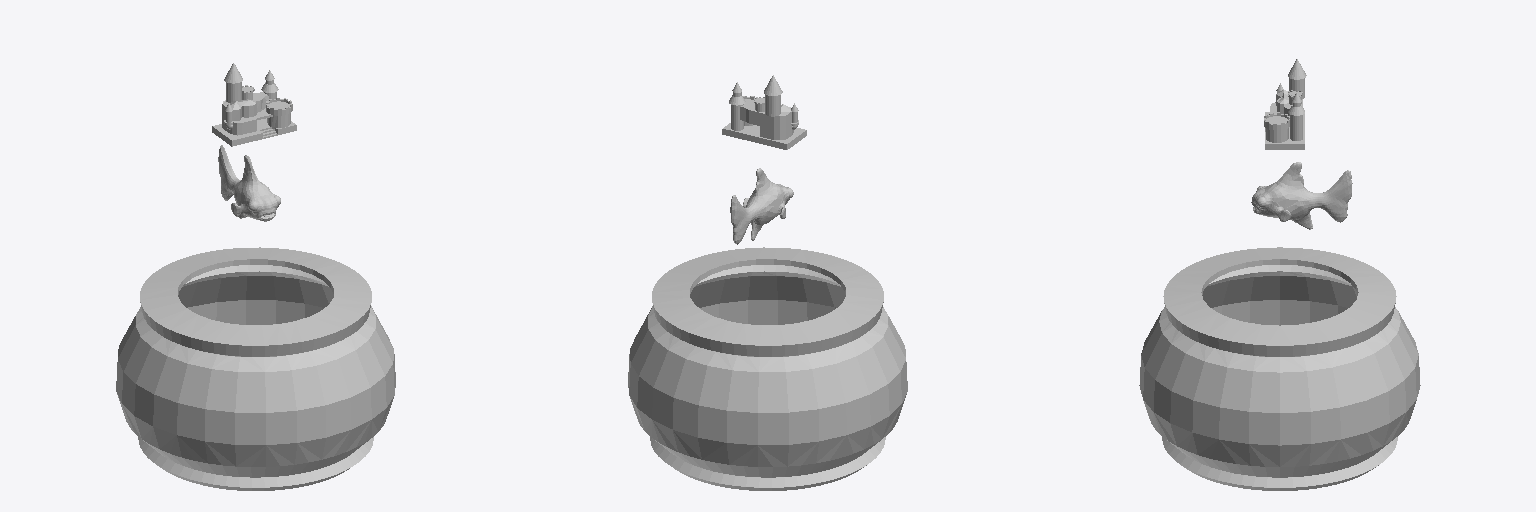
The model's file is Fish with all objects.obj.
3 views of the same model, side by side, from view 1: azimuth 30°, elevation 25°; view 2: azimuth 150°, elevation 25°; view 3: azimuth 270°, elevation 25° (orthographic).
Parts seen in each view (by area): view 1: Bowl, Fish, redone_fish_castel:pCube1pCube2 redone_fish_castel:pCube1 redone, redone_fish_castel:pCube1pCube2 redone_fish_castel:pCube1, redone_fish_castel:pCube1; view 2: Bowl, Fish, redone_fish_castel:pCube1pCube2 redone_fish_castel:pCube1 redone, redone_fish_castel:pCube1pCube2 redone_fish_castel:pCube1, redone_fish_castel:pCube1; view 3: Bowl, Fish, redone_fish_castel:pCube1pCube2 redone_fish_castel:pCube1 redone.
Boxes of the visible parts, <box> form: Bowl: <box>116,247,395,490</box>; Fish: <box>218,145,278,221</box>; redone_fish_castel:pCube1pCube2 redone_fish_castel:pCube1 redone: <box>224,63,292,129</box>; redone_fish_castel:pCube1pCube2 redone_fish_castel:pCube1: <box>222,92,272,135</box>; redone_fish_castel:pCube1: <box>212,118,296,146</box>; Bowl: <box>628,247,907,490</box>; Fish: <box>730,168,789,244</box>; redone_fish_castel:pCube1pCube2 redone_fish_castel:pCube1 redone: <box>729,75,798,130</box>; redone_fish_castel:pCube1pCube2 redone_fish_castel:pCube1: <box>740,104,793,139</box>; redone_fish_castel:pCube1: <box>722,123,806,149</box>; Bowl: <box>1139,247,1420,490</box>; Fish: <box>1251,162,1352,229</box>; redone_fish_castel:pCube1pCube2 redone_fish_castel:pCube1 redone: <box>1264,59,1306,142</box>.
Size of the model in its own units: 16.44 by 24.64 by 16.44.